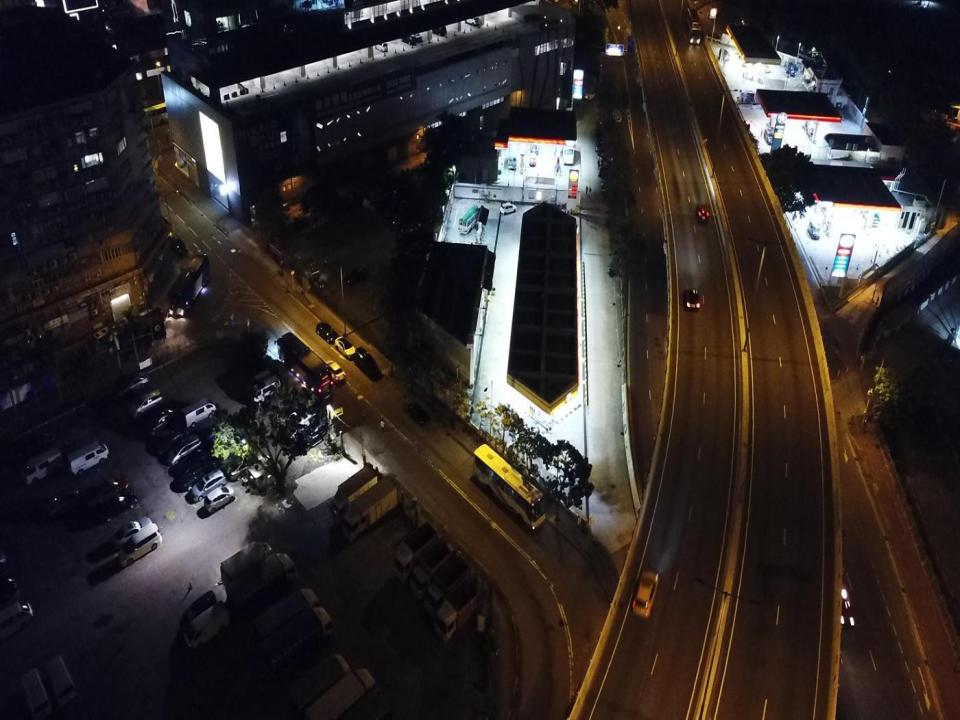bus: (0, 361, 53, 414), (168, 251, 210, 317), (143, 99, 188, 126), (686, 7, 702, 43), (563, 124, 575, 165), (507, 142, 518, 170)
car: (473, 442, 545, 530), (93, 489, 137, 522), (632, 569, 659, 619), (113, 516, 153, 546), (88, 478, 128, 506), (180, 460, 216, 490), (174, 444, 211, 473), (831, 582, 854, 626), (204, 484, 234, 514), (300, 420, 328, 450), (48, 487, 77, 515), (148, 408, 178, 435), (158, 429, 189, 455), (116, 372, 149, 396), (229, 456, 252, 481), (334, 335, 357, 359), (408, 402, 429, 426), (324, 360, 346, 382), (316, 320, 337, 342), (346, 268, 368, 284), (684, 288, 700, 310), (172, 236, 188, 256), (697, 205, 709, 223), (399, 32, 416, 44), (500, 203, 516, 213), (408, 31, 422, 42), (465, 15, 479, 25), (585, 86, 595, 100), (530, 153, 536, 167)
truck: (260, 607, 334, 675), (228, 553, 298, 615), (254, 589, 320, 654), (341, 476, 398, 543), (304, 667, 377, 719), (289, 654, 351, 714), (436, 575, 484, 644), (423, 552, 471, 618), (329, 464, 379, 527), (409, 536, 457, 600), (220, 540, 275, 594), (394, 519, 438, 580), (324, 684, 390, 719)
van: (276, 332, 332, 394), (182, 598, 231, 650), (118, 523, 162, 568), (18, 668, 53, 718), (44, 654, 76, 708), (22, 446, 63, 485), (68, 440, 109, 476), (0, 600, 33, 642), (185, 588, 217, 624), (191, 470, 226, 500), (168, 434, 202, 464), (182, 398, 216, 428), (131, 390, 163, 420), (250, 374, 281, 404), (286, 412, 319, 439), (355, 348, 379, 378), (458, 205, 479, 234), (247, 370, 271, 389), (363, 188, 383, 208), (862, 204, 880, 226), (429, 20, 447, 37), (808, 220, 819, 240), (374, 38, 388, 52), (530, 136, 539, 155), (764, 129, 774, 144), (719, 48, 730, 60)
